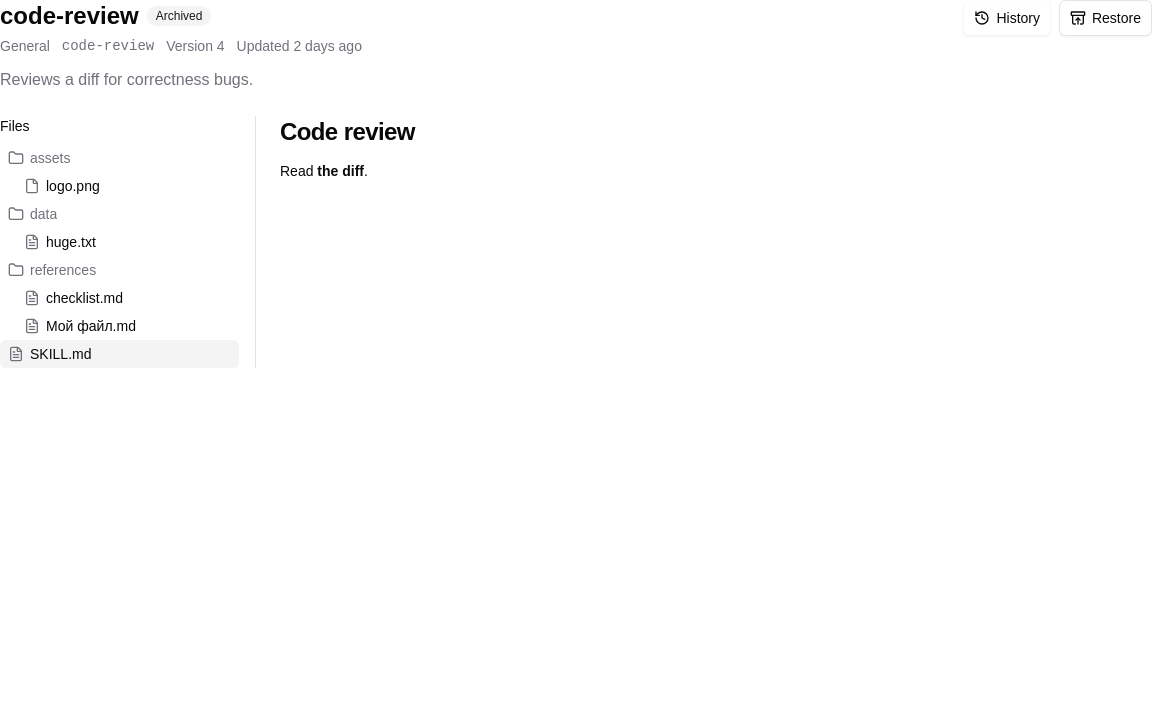
it: skill page › restoring an archived skill asks for confirmation and removes the badge
Expected: the text "Archived" is shown, left=147, top=6, right=211, bottom=26
Expected: the link "Edit" is not shown
Click the button "Restore" at point(1106, 18), box left=1059, top=0, right=1151, bottom=36
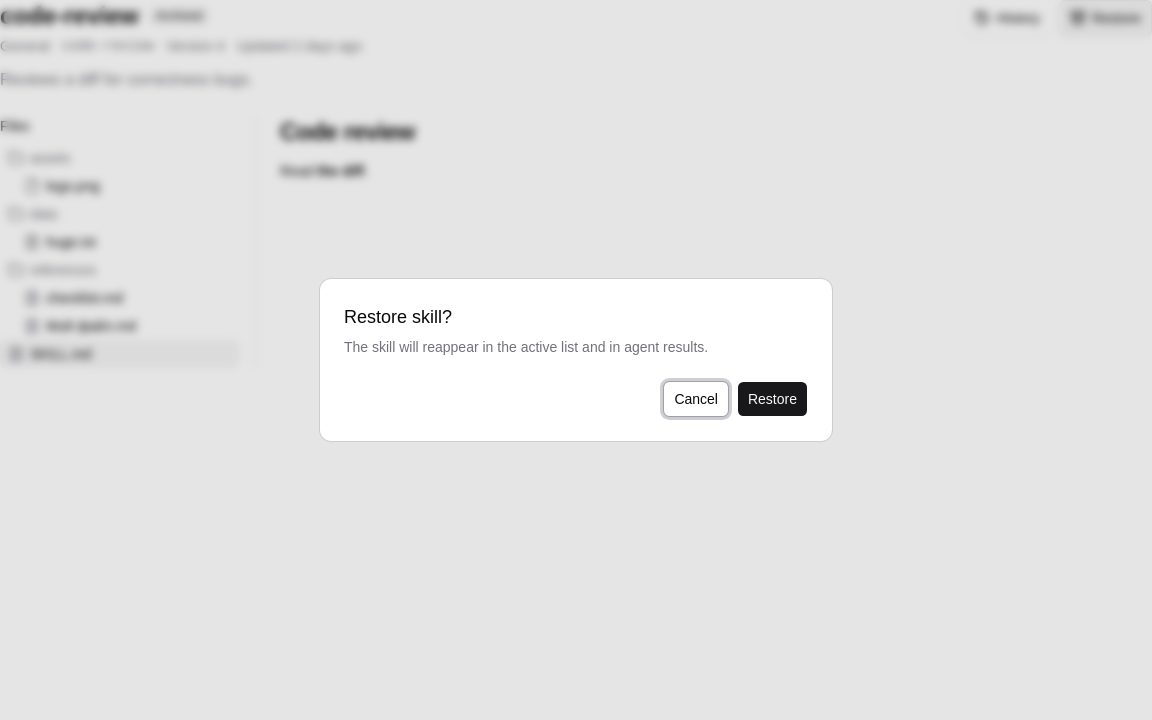
Click the button "Restore" at point(772, 399), box left=737, top=381, right=808, bottom=417
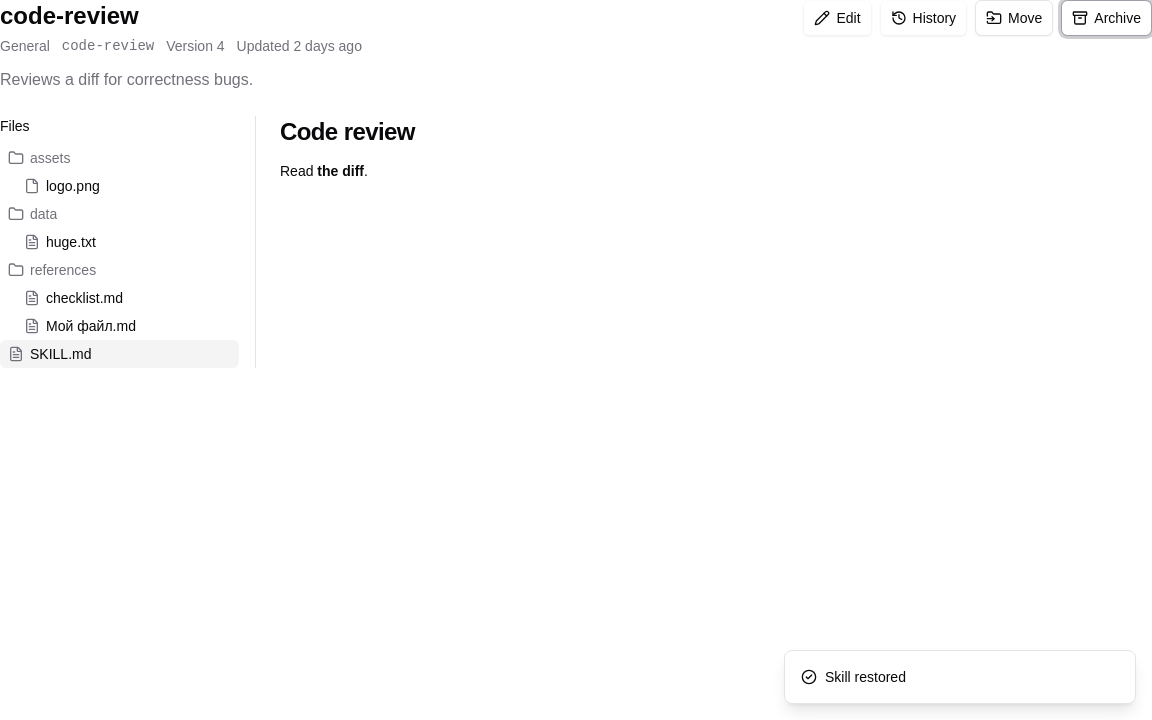
Expected: the heading "Skill restored" is shown, left=825, top=667, right=906, bottom=687
Expected: the text "Archived" is gone
Expected: the link "Edit" is shown, left=803, top=0, right=872, bottom=36
